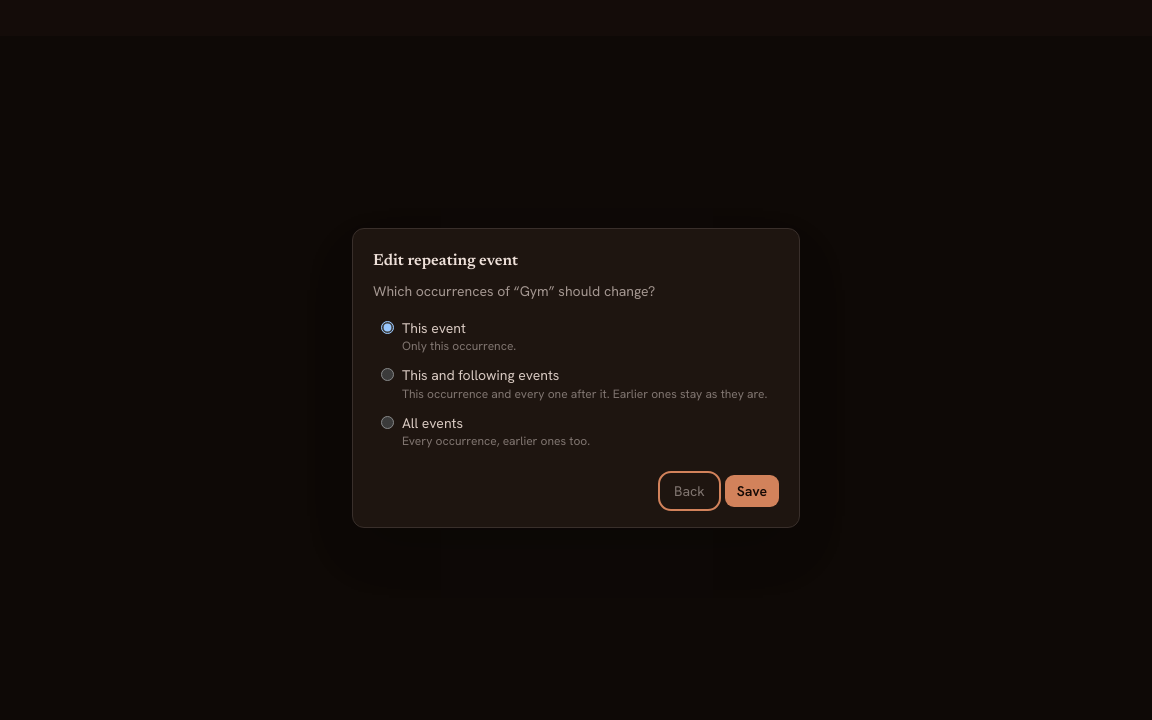
Test: SaveChoicesDialog › says the picked row's question in the live region, naming both days
The width and height of the screenshot is (1152, 720).
What coordinates should you click on to do the following:
click the radio button labelled "All events Every occurrence, earlier ones too."
I would click on:
 (388, 422)
Its box is [381,416,394,429].
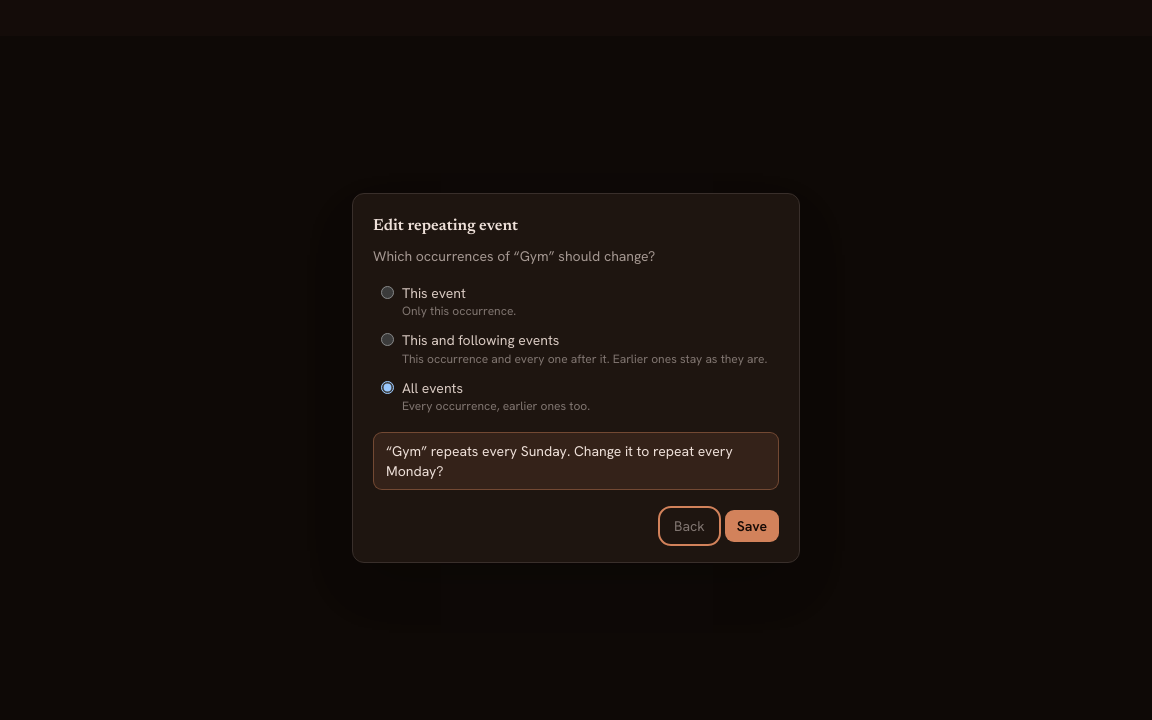
Now the message reads "“Gym” repeats every Sunday. Change it to repeat every Monday?", box [386,442,733,480]
